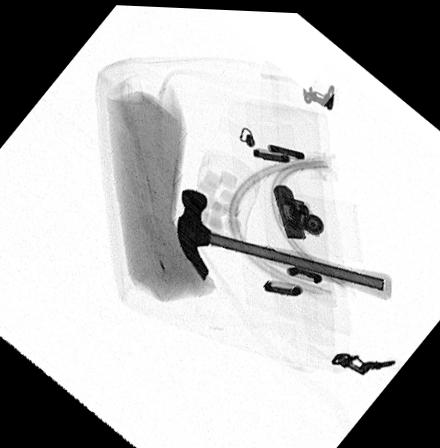Hammer: (176, 187, 392, 298)
